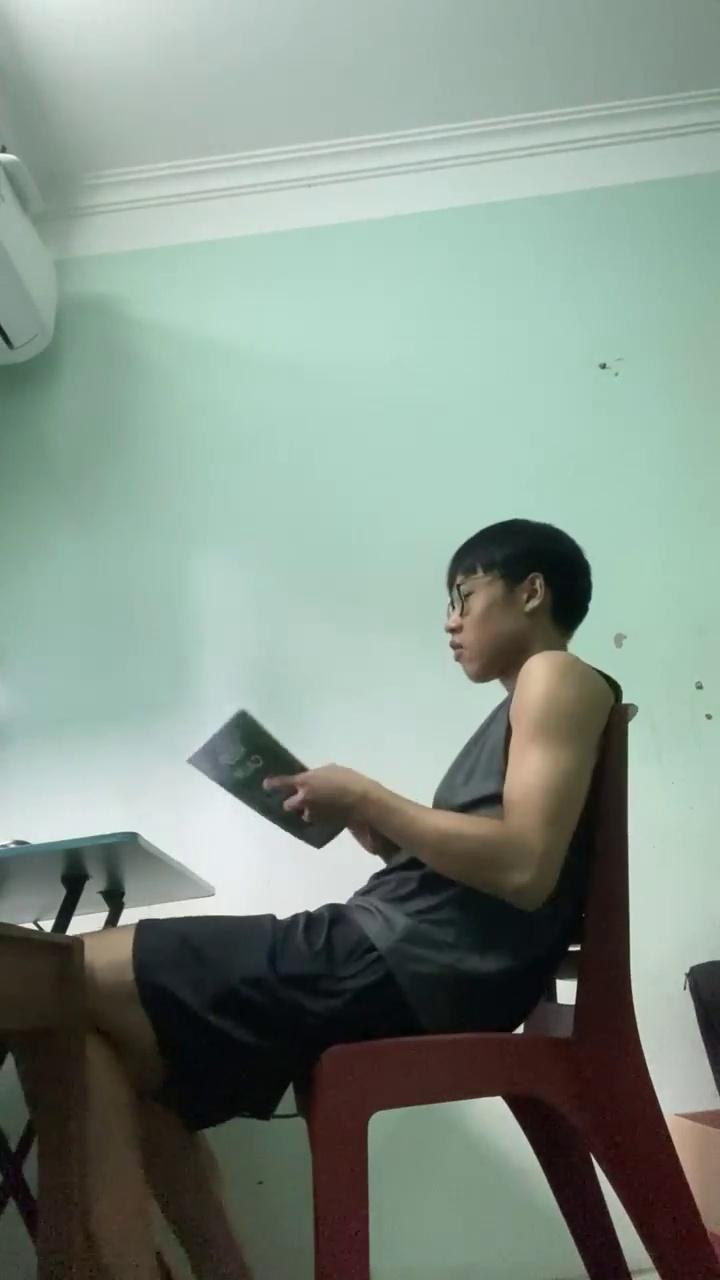BadPosture: (83, 518, 622, 1279)
